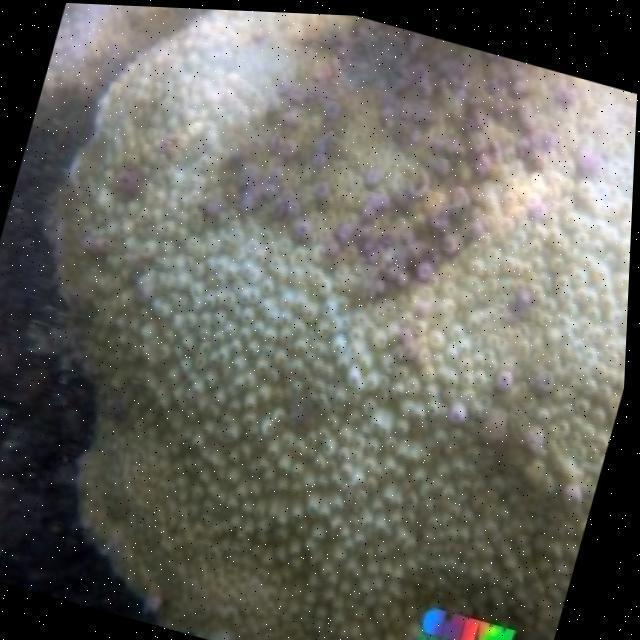Bleached Coral: (62, 12, 636, 640)
